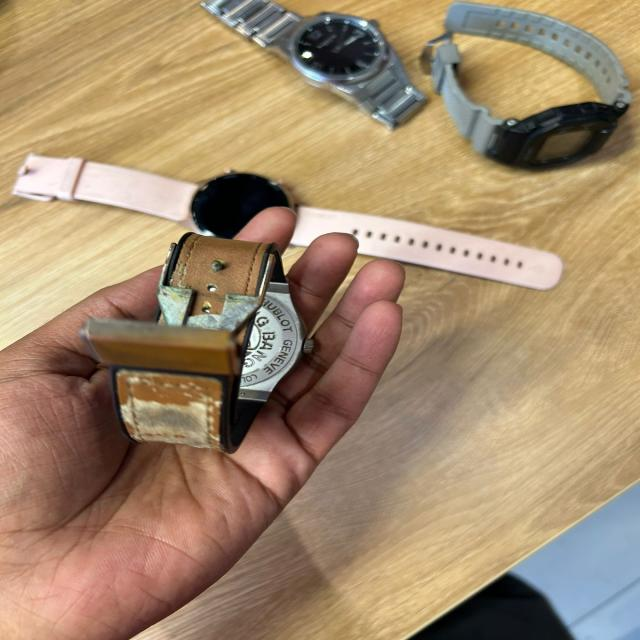watch: (77, 230, 310, 456), (422, 0, 632, 171), (198, 0, 428, 131)
